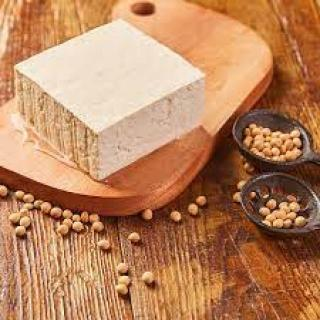Tahu: (6, 21, 218, 167)
